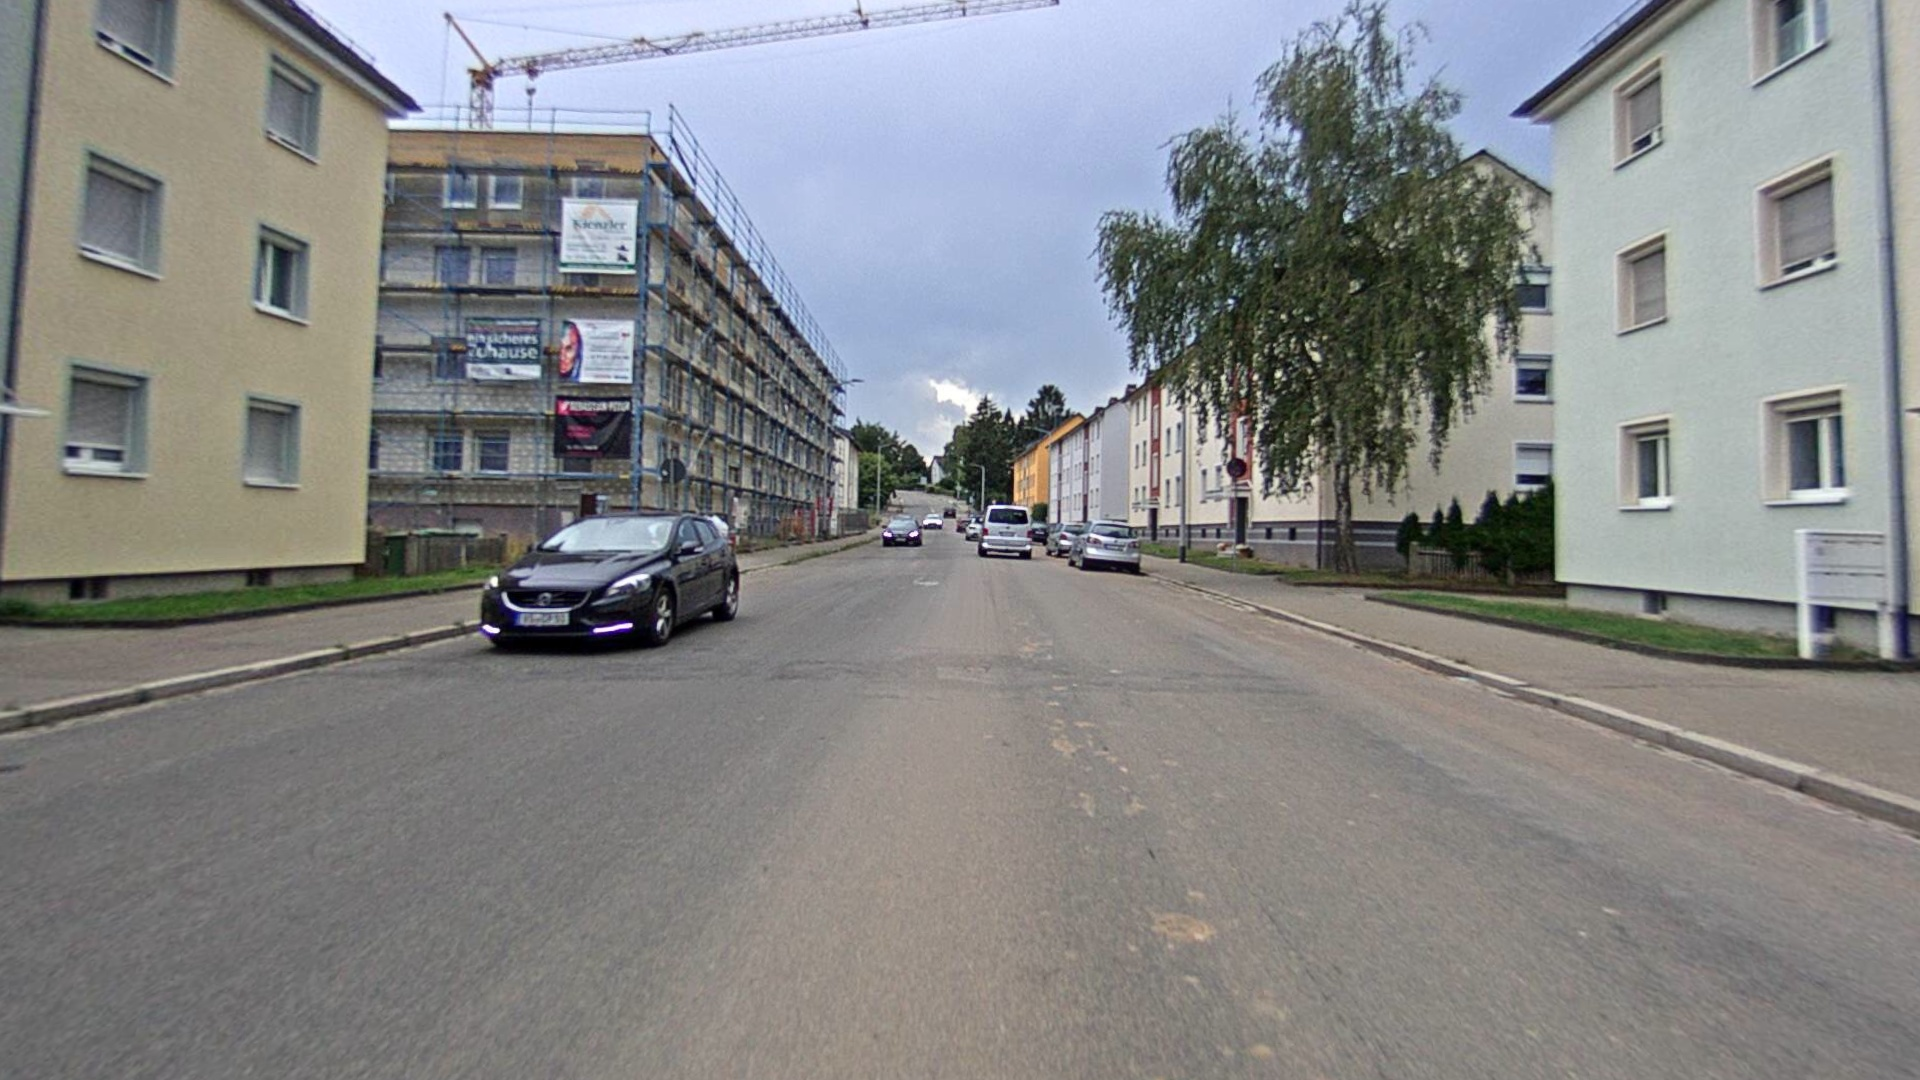car: (477, 512, 742, 654)
